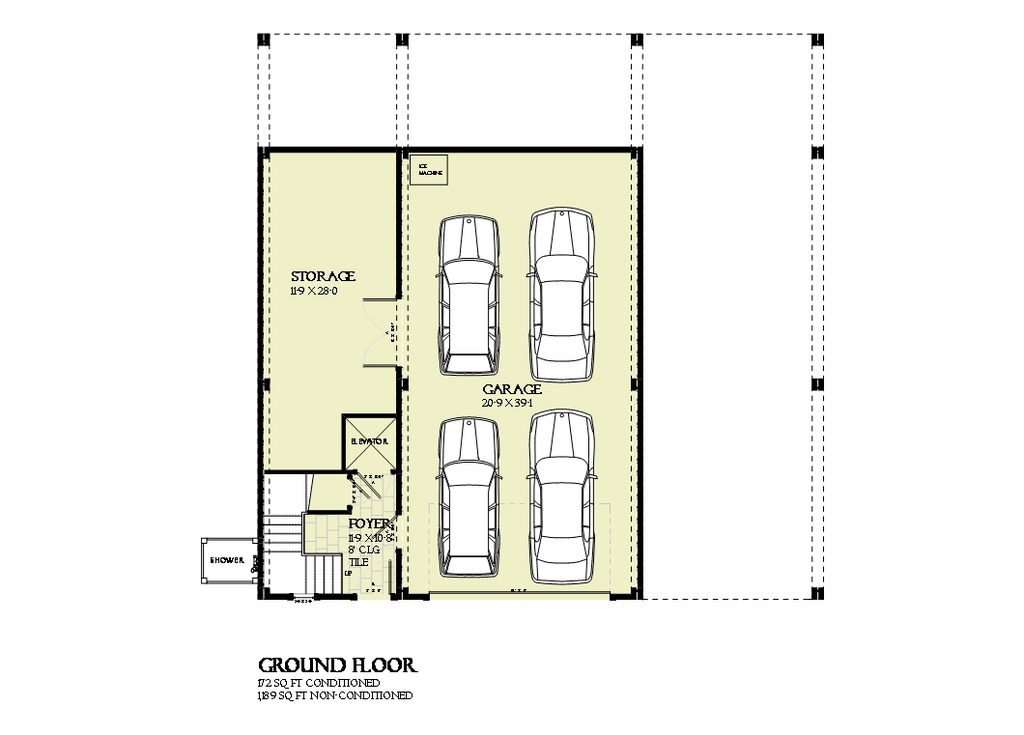stairs: (257, 471, 346, 596)
